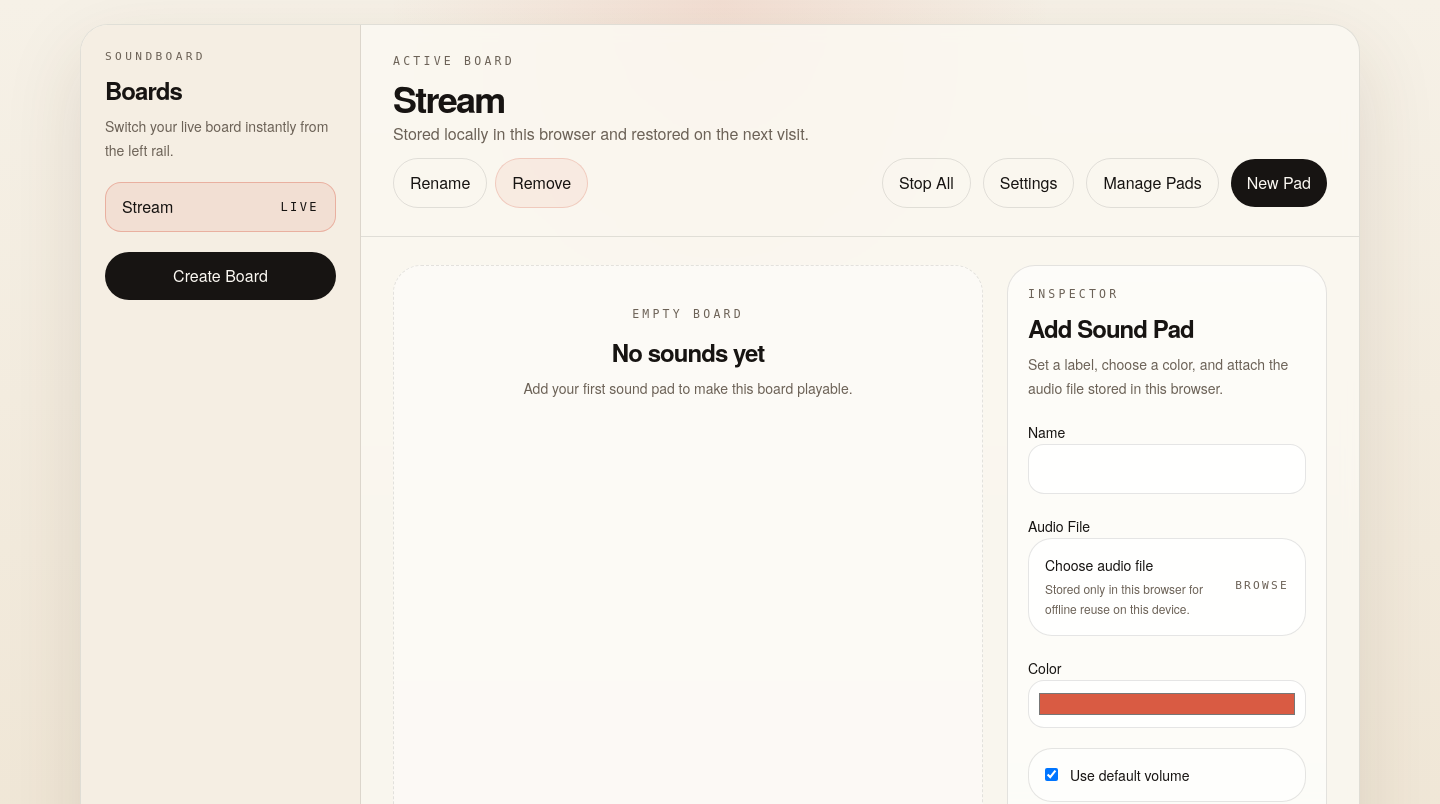
SoundboardApp › saves a board rename when Enter is pressed in the name field
The image size is (1440, 804).
Click the button with aria-label "rename stream" at (440, 183), box [393,158,487,208]
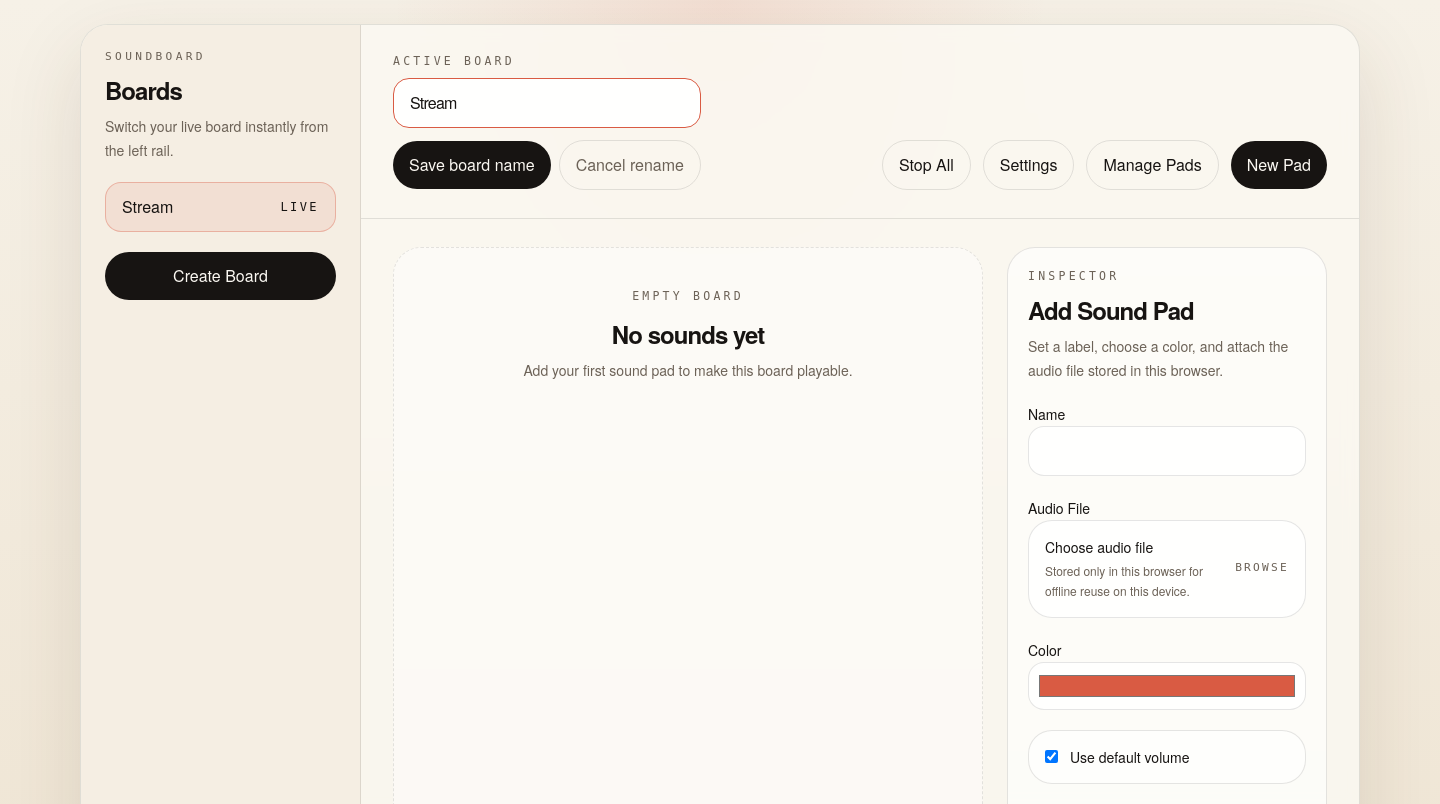
Replace the text in the field named "board name" with "Studio" at (547, 103), box [393,78,701,128]
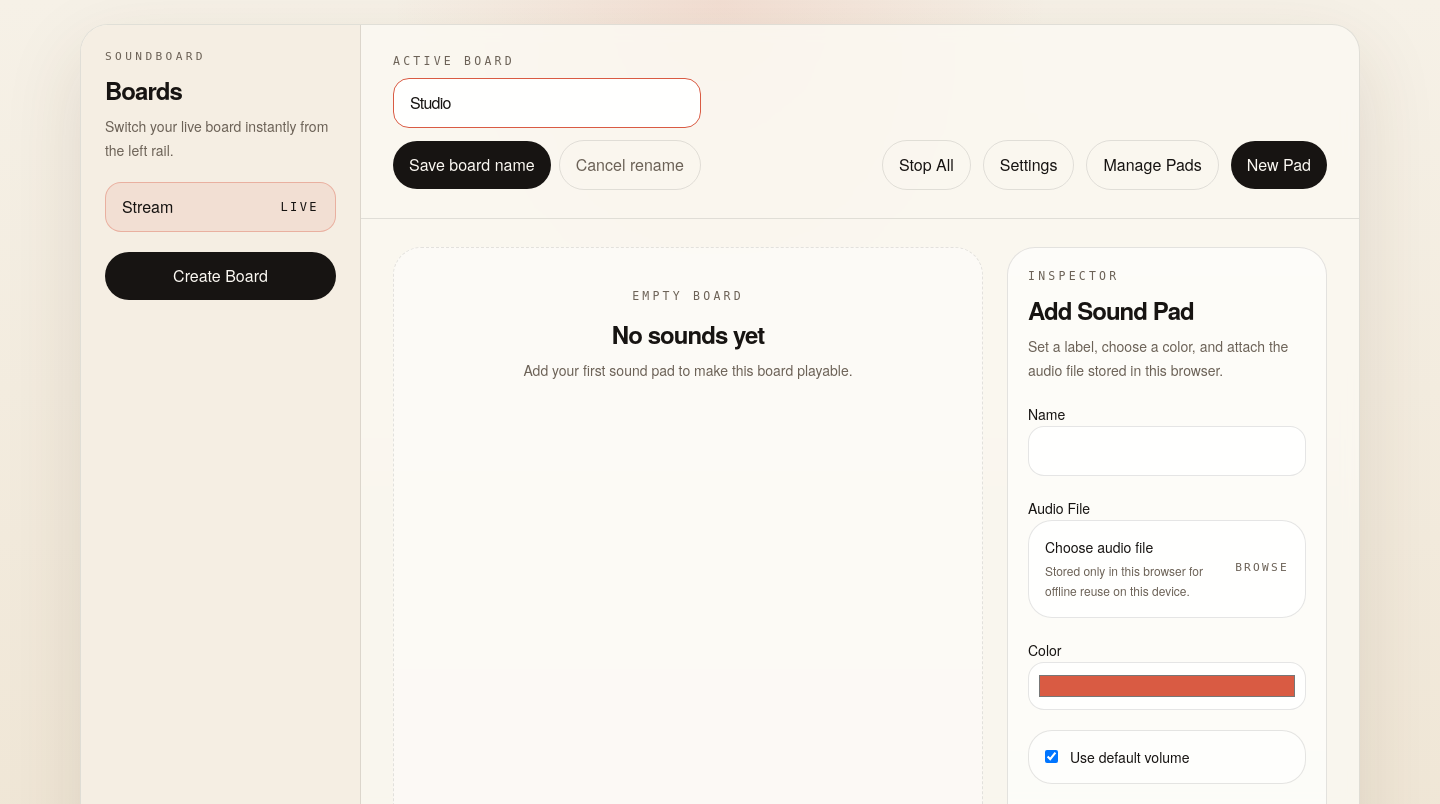
Press Enter
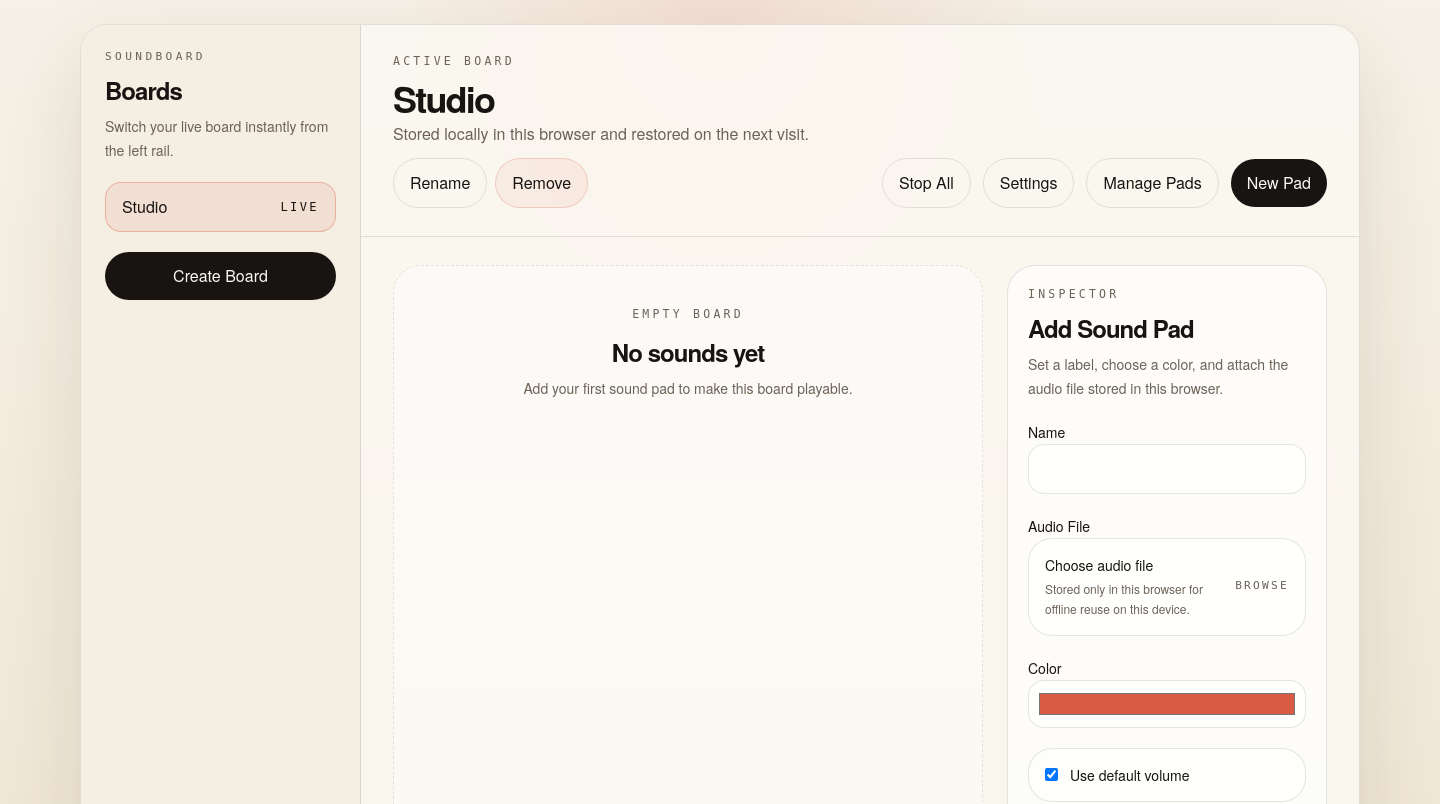
Now the heading "Studio" is shown, box [393,72,494,124]
